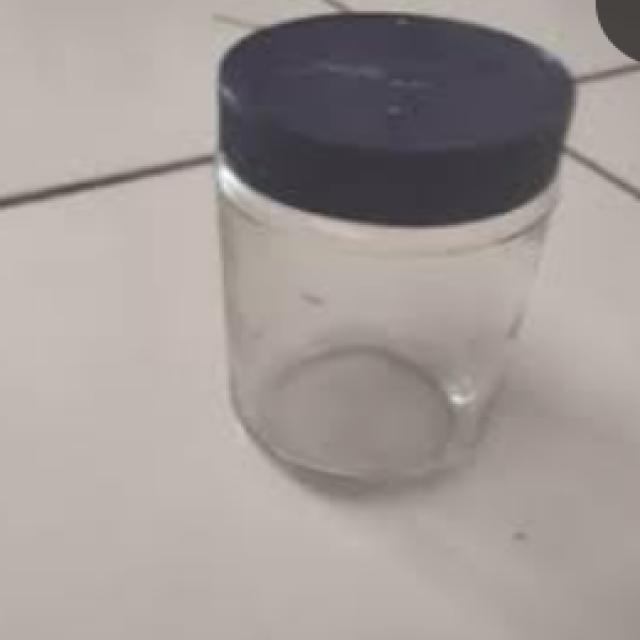ToplesKaca: (207, 7, 578, 489)
